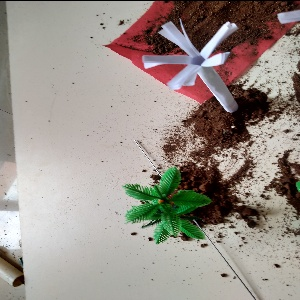plant: (112, 163, 209, 246)
weed: (136, 17, 245, 123)
